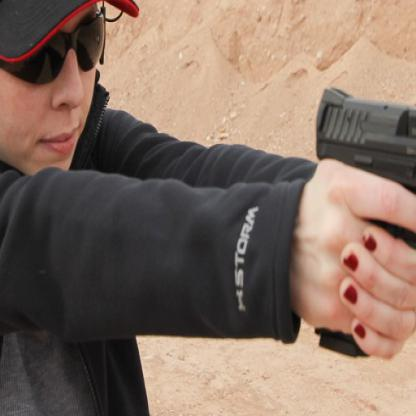gun: (305, 73, 415, 371)
